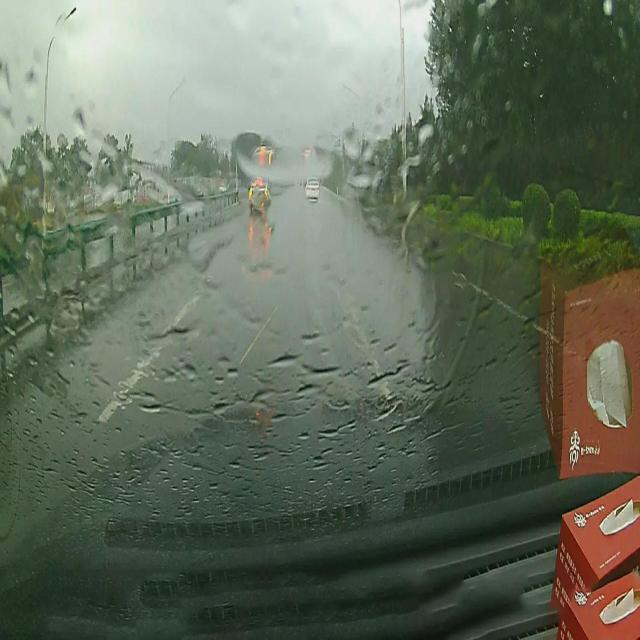car: (303, 176, 321, 203)
